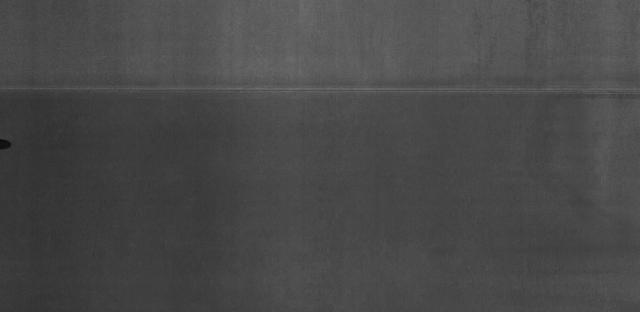punching_hole: (0, 136, 13, 152)
welding_line: (0, 82, 640, 101)
